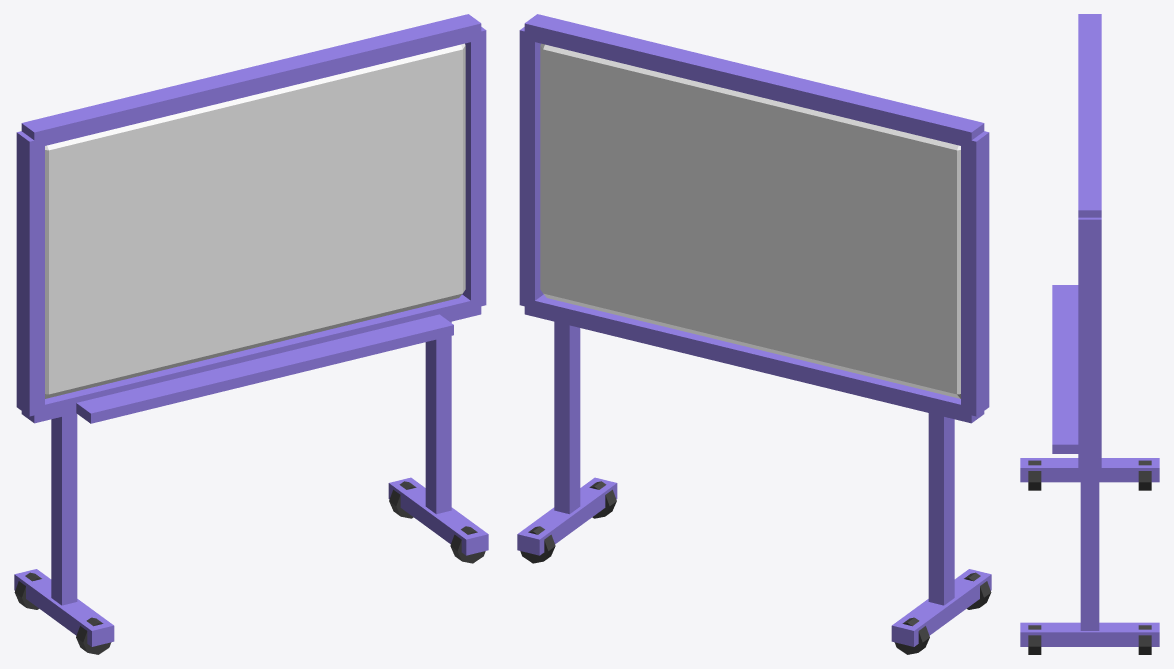
3 views of the same model, side by side, from view 1: azimuth 30°, elevation 25°; view 2: azimuth 150°, elevation 25°; view 3: azimuth 270°, elevation 25° (orthographic). The views are drawn at different scales.
Parts seen in each view (by area): view 1: Writing surface, Frame rail.001, Marker ledge, Frame upright, Frame rail, Frame upright.001, Stand, Stand.001, Caster beam.001, Caster beam; view 2: Writing surface, Frame rail.001, Frame rail, Frame upright, Frame upright.001, Stand, Stand.001, Caster beam.001, Caster beam; view 3: Frame upright.001, Frame rail.001, Marker ledge, Stand.001, Caster beam.001, Caster beam, Wheel, Wheel.001, Wheel.002, Wheel.003.
Part boxes in pixels (x1=…): Writing surface: x1=45, y1=43, x2=465, y2=398; Frame rail.001: x1=21, y1=14, x2=481, y2=148; Marker ledge: x1=76, y1=314, x2=453, y2=423; Frame upright: x1=16, y1=131, x2=44, y2=416; Frame rail: x1=21, y1=294, x2=481, y2=423; Frame upright.001: x1=462, y1=27, x2=486, y2=306; Stand: x1=51, y1=413, x2=77, y2=605; Stand.001: x1=425, y1=321, x2=451, y2=514; Caster beam.001: x1=388, y1=477, x2=488, y2=555; Caster beam: x1=14, y1=569, x2=114, y2=646; Writing surface: x1=540, y1=43, x2=960, y2=398; Frame rail.001: x1=524, y1=14, x2=984, y2=148; Frame rail: x1=524, y1=294, x2=984, y2=423; Frame upright: x1=961, y1=131, x2=989, y2=416; Frame upright.001: x1=519, y1=27, x2=543, y2=307; Stand: x1=928, y1=413, x2=954, y2=605; Stand.001: x1=554, y1=321, x2=580, y2=514; Caster beam.001: x1=517, y1=477, x2=617, y2=555; Caster beam: x1=891, y1=569, x2=991, y2=646; Frame upright.001: x1=1078, y1=217, x2=1101, y2=467; Frame rail.001: x1=1078, y1=14, x2=1101, y2=217; Marker ledge: x1=1052, y1=285, x2=1078, y2=453; Stand.001: x1=1080, y1=472, x2=1099, y2=630; Caster beam.001: x1=1020, y1=622, x2=1159, y2=646; Caster beam: x1=1020, y1=458, x2=1159, y2=482; Wheel: x1=1028, y1=460, x2=1041, y2=490; Wheel.001: x1=1138, y1=460, x2=1151, y2=490; Wheel.002: x1=1028, y1=625, x2=1041, y2=654; Wheel.003: x1=1138, y1=625, x2=1151, y2=654.
Size of the model in its own units: 1.64 by 1.75 by 0.48.
1 material, 1 textured.
